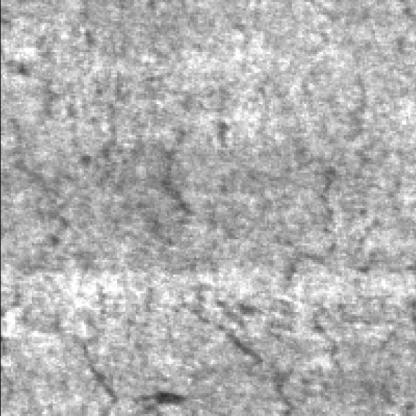crazing: (166, 83, 368, 364), (4, 25, 123, 414)
